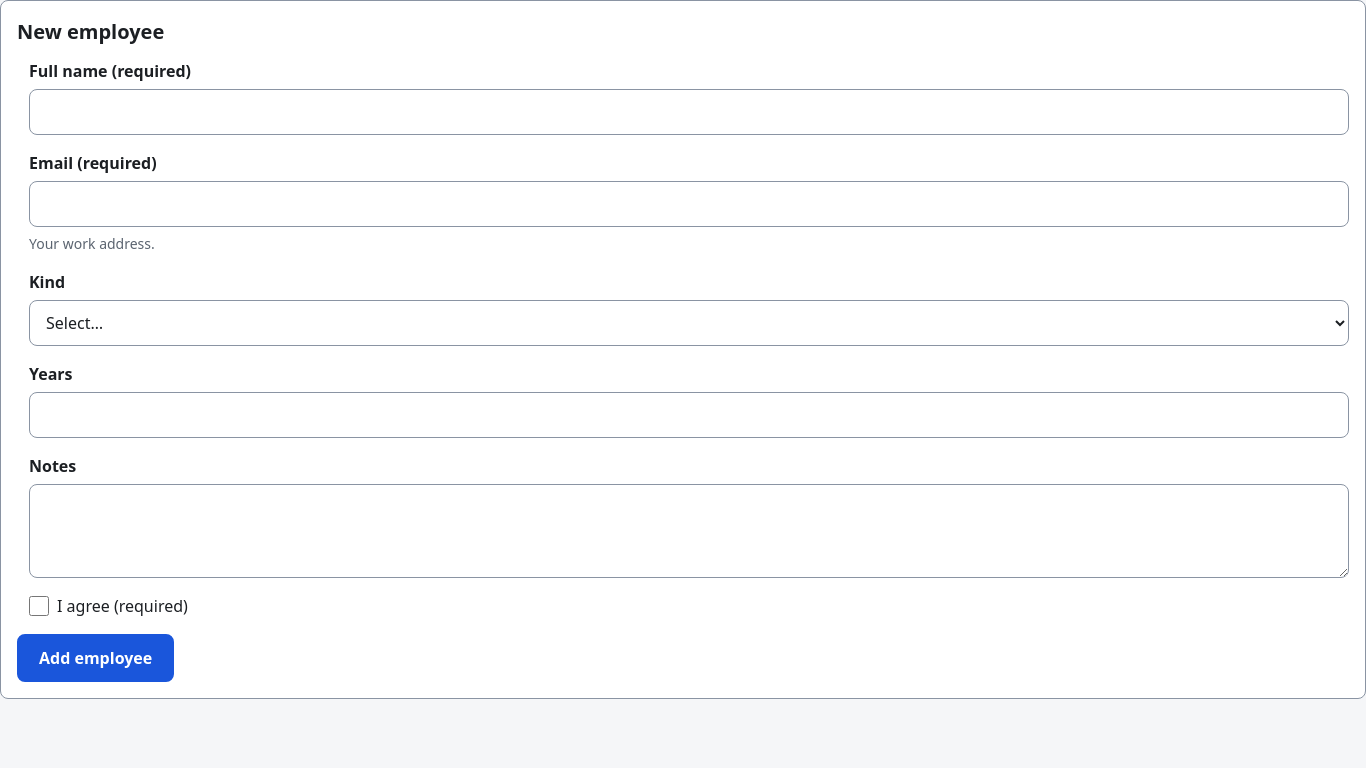
Test: Form: when a field is checked › says that a number field must hold a number
The image size is (1366, 768).
Type "seven" into the field labelled "Years". click: (689, 415)
box: [29, 392, 1349, 438]
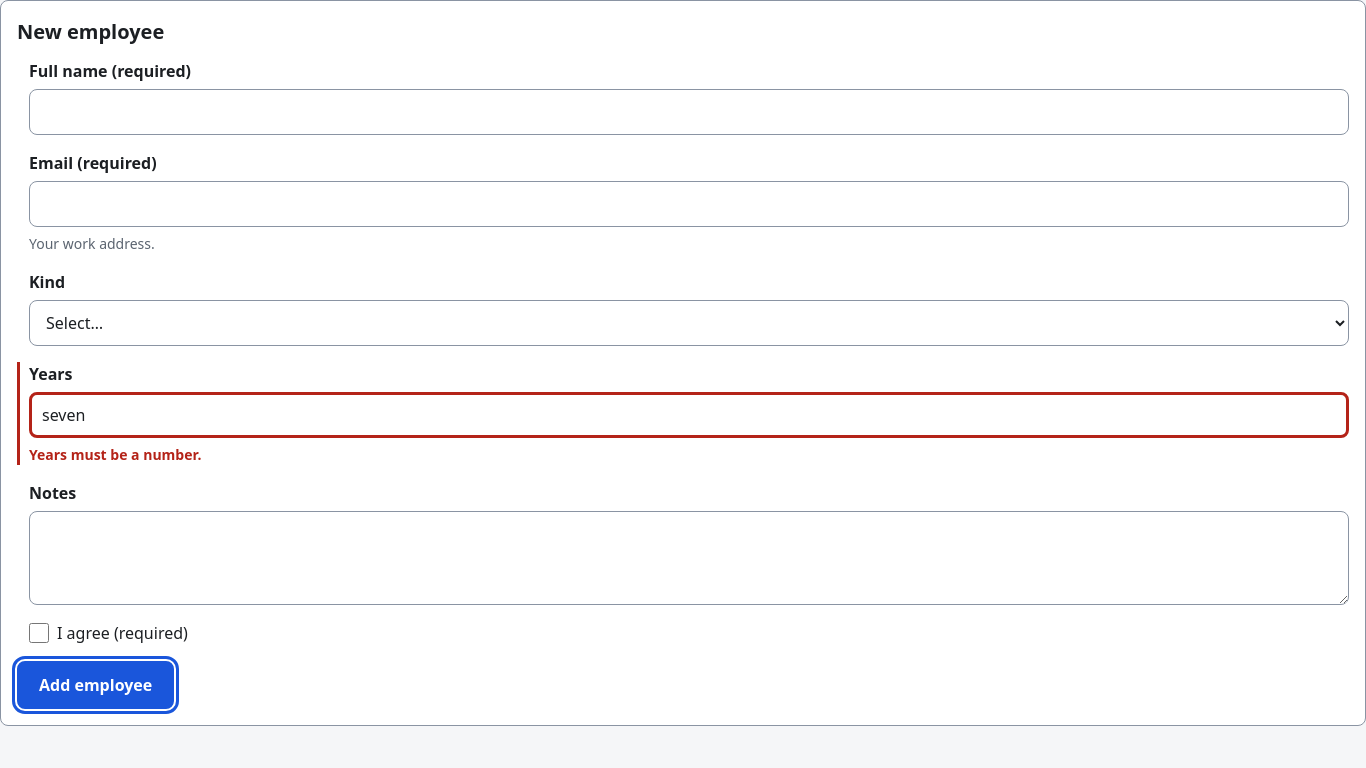
Expected: the text "Years must be a number." is shown, [29, 445, 201, 464]
